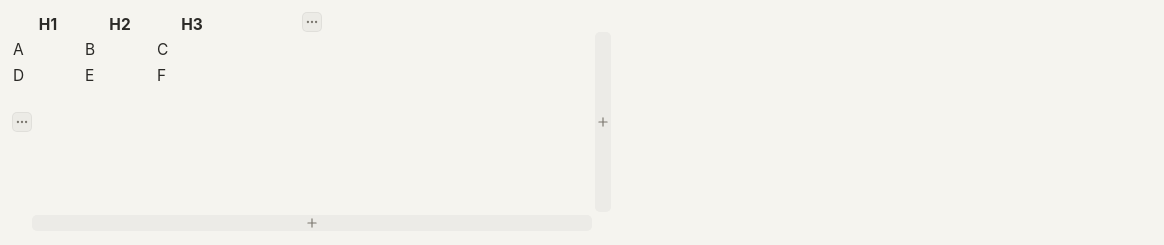
TableControlsOverlay › actions: 在右侧插入列
Expected: the button named "在表格右侧新增列" is shown, x1=595 y1=32 x2=611 y2=212
Click the button named "当前列操作". click: coordinates (312, 22)
box: x1=302 y1=12 x2=322 y2=32
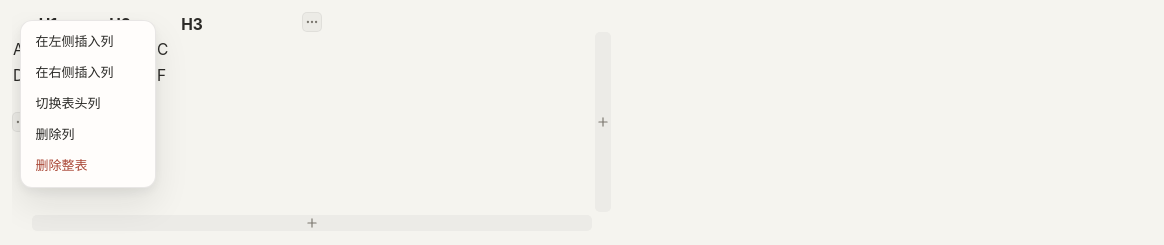
Expected: the element with class "table-action-menu" is shown, x1=20 y1=20 x2=156 y2=188
Expected: the button "在右侧插入列" is shown
Click the button "在右侧插入列". click: coordinates (88, 73)
box: x1=27 y1=58 x2=149 y2=89
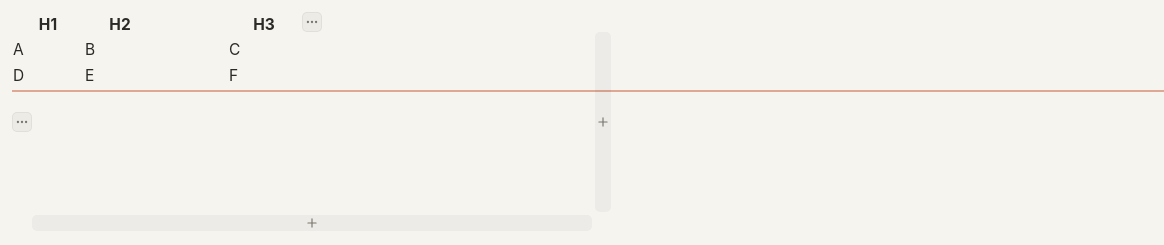
Expected: the element with class "table-action-menu" is gone
